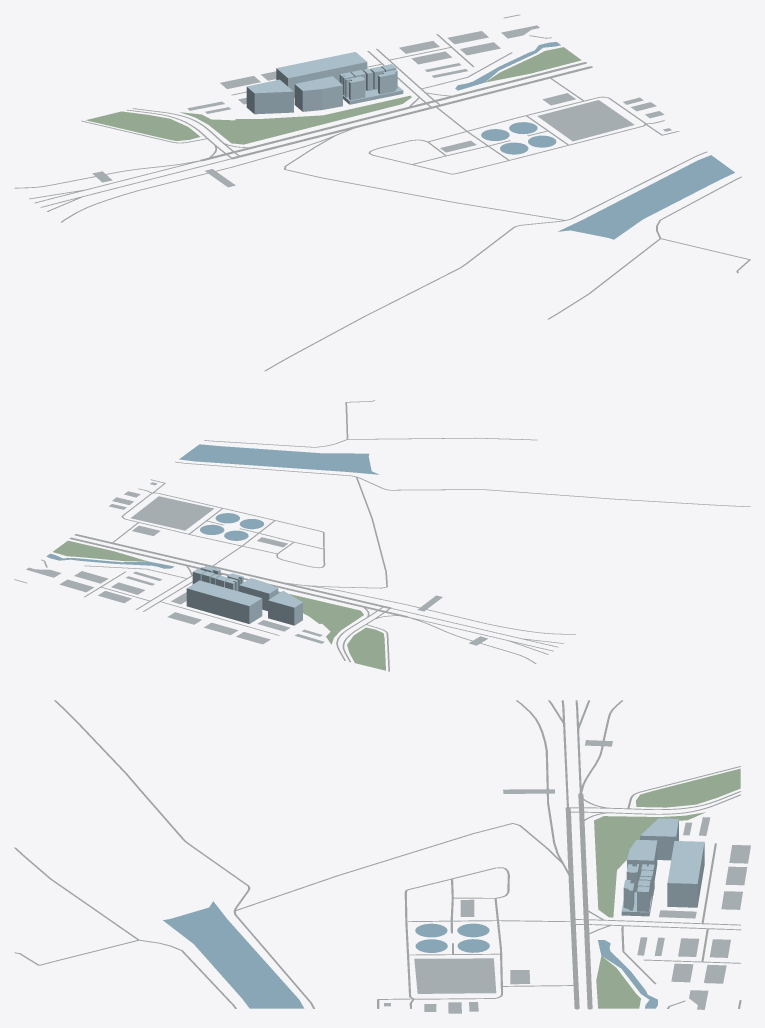
The model's file is -26_15-known-coarse.glb.
3 views of the same model, one above another, from view 1: azimuth 30°, elevation 25°; view 2: azimuth 150°, elevation 25°; view 3: azimuth 270°, elevation 25° (orthographic). The views are drawn at different scales.
Bounding box in the file's own units: 1018 × 36 × 1011.
